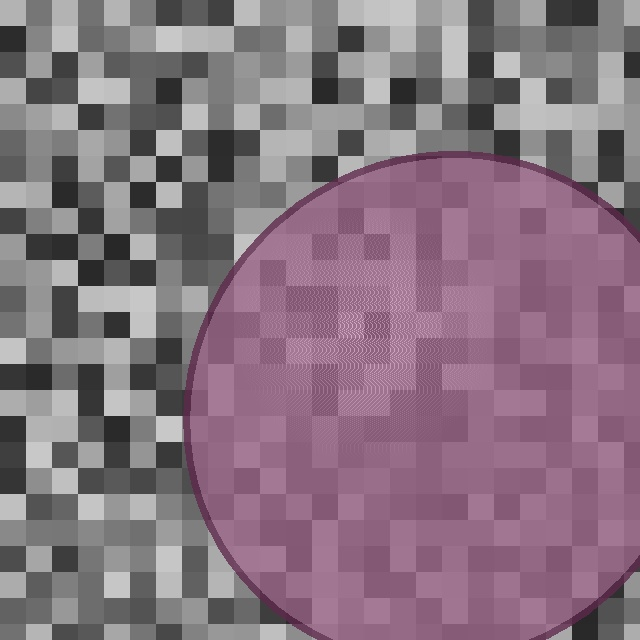lens: (187, 154, 640, 640)
